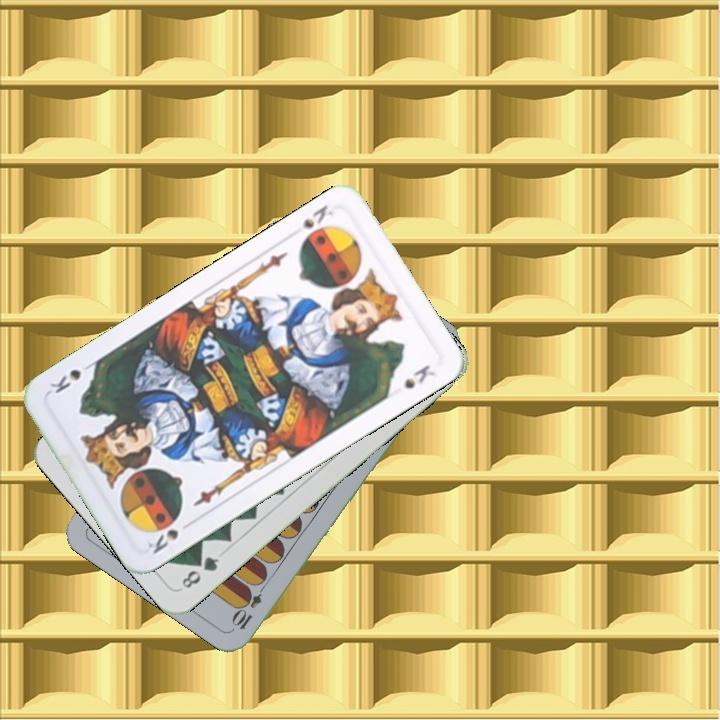E10: (229, 577, 270, 632)
G8: (177, 552, 222, 591)
SK: (142, 525, 182, 557), (298, 200, 336, 231)
